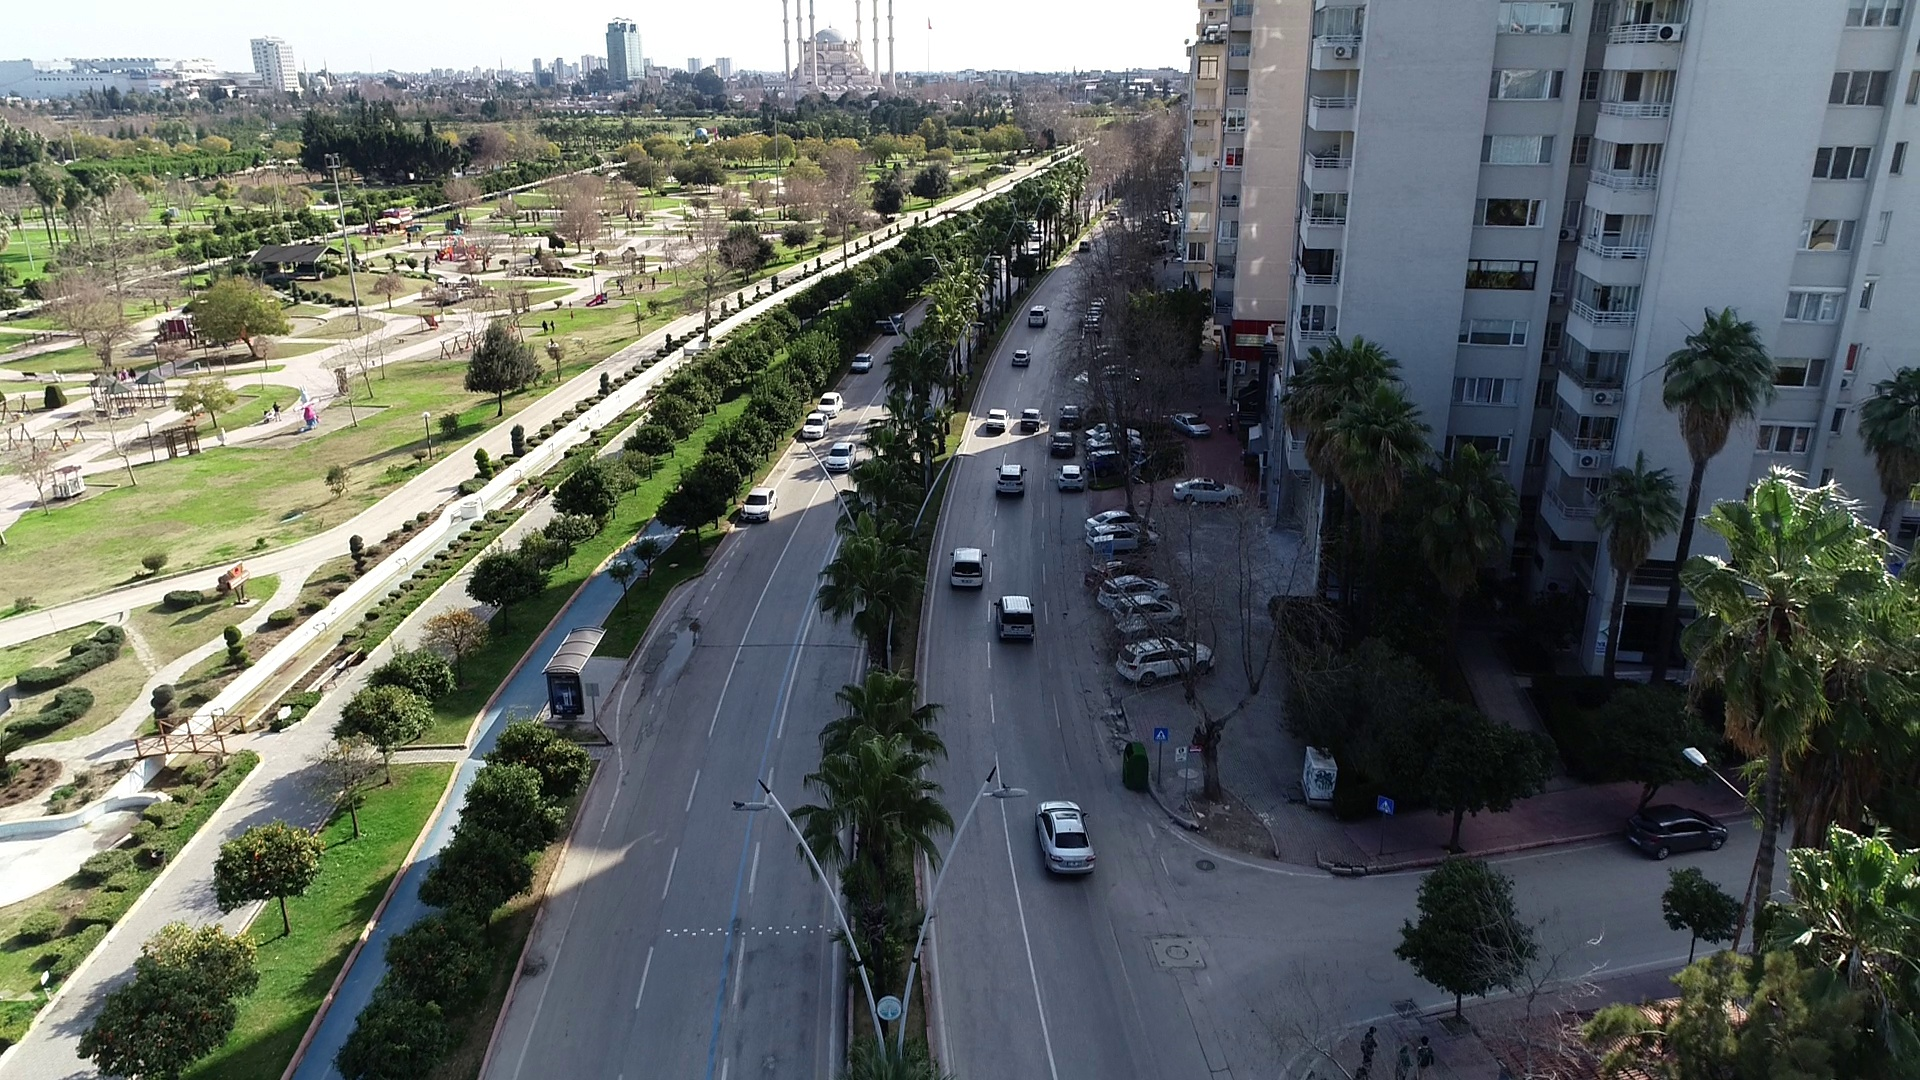car: (1032, 799, 1110, 882), (1623, 804, 1734, 863), (1109, 637, 1224, 686), (1082, 560, 1175, 601), (1108, 589, 1190, 629), (1171, 473, 1248, 509), (1081, 520, 1163, 552), (990, 593, 1040, 645), (944, 543, 989, 592), (1081, 508, 1161, 531), (738, 485, 781, 524), (995, 460, 1033, 500), (1170, 409, 1214, 439), (824, 438, 860, 474), (1053, 463, 1092, 492), (800, 410, 832, 442), (1048, 427, 1078, 460), (815, 389, 845, 419), (984, 406, 1014, 435), (1018, 405, 1045, 435), (1060, 401, 1086, 430), (847, 349, 877, 375), (1085, 418, 1124, 438), (884, 309, 908, 338), (1027, 303, 1053, 328), (1011, 348, 1037, 369), (1075, 239, 1093, 252)
person: (1414, 1029, 1441, 1079), (1357, 1025, 1382, 1069), (1392, 1043, 1415, 1079), (270, 400, 289, 424), (538, 317, 548, 339), (1074, 316, 1084, 336), (1160, 256, 1173, 271), (547, 317, 558, 336), (127, 366, 139, 384), (657, 263, 664, 276)
